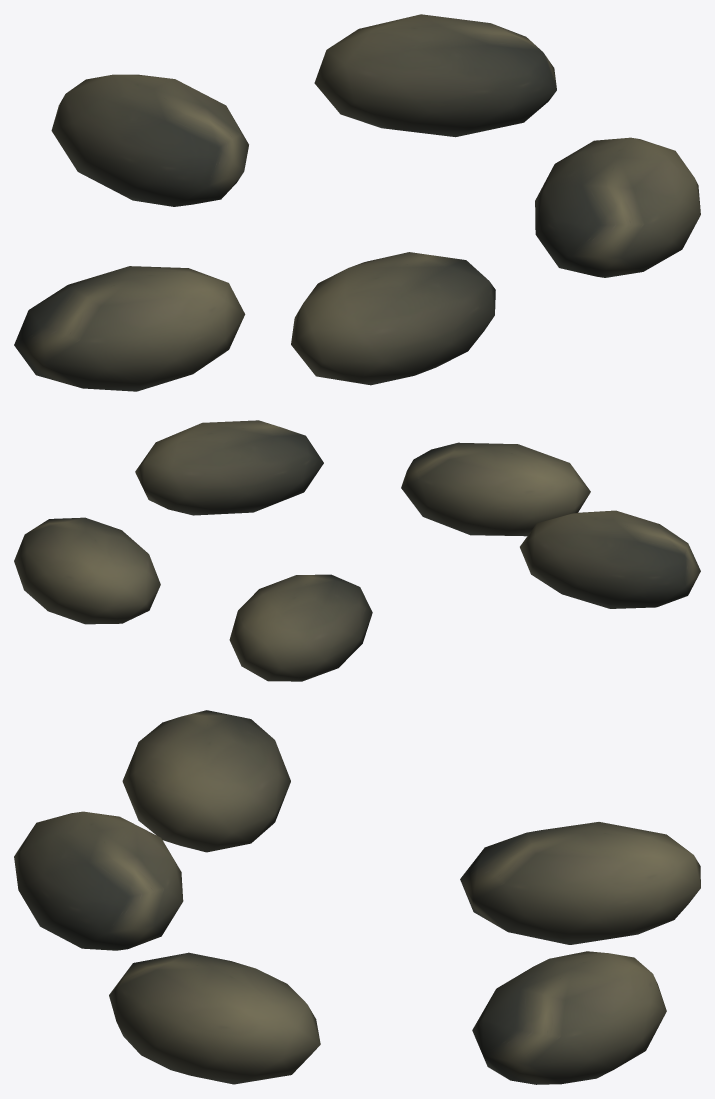
The model's file is NP_Kiwi_Seed.fbx.
The picture shows the model from 3 angles, top to bottom: view 1: azimuth 30°, elevation 25°; view 2: azimuth 150°, elevation 25°; view 3: azimuth 270°, elevation 25°; orthographic projection. The views are drawn at different scales.
Parts seen in each view (by area): view 1: NP_Kiwi_Seed; view 2: NP_Kiwi_Seed; view 3: NP_Kiwi_Seed.
Boxes of the visible parts, <box> form: NP_Kiwi_Seed: <box>14,14,700,391</box>; NP_Kiwi_Seed: <box>14,420,700,681</box>; NP_Kiwi_Seed: <box>14,710,700,1084</box>.
Bounding box in the file's own units: 14.11 × 1.98 × 12.21.
